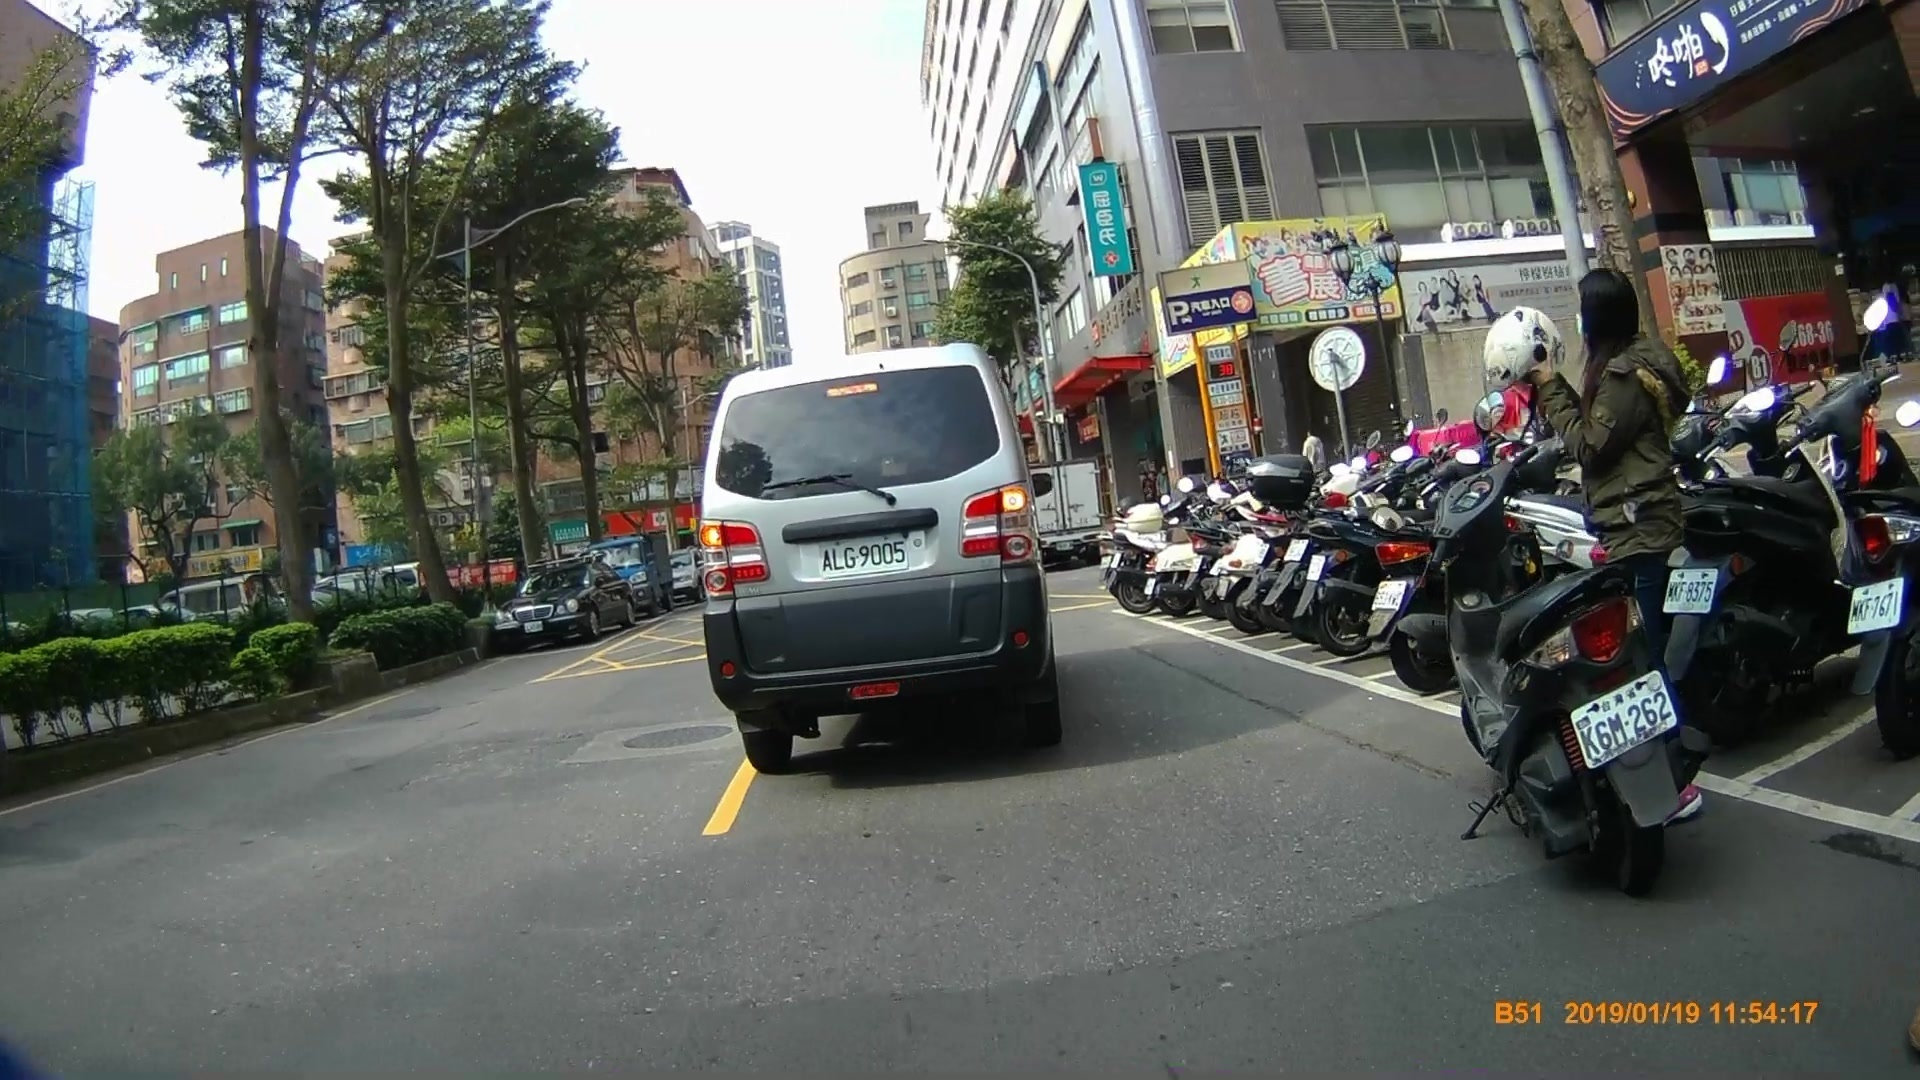License_plate: (1561, 675, 1681, 754), (815, 538, 913, 575), (1658, 562, 1719, 615), (1845, 586, 1900, 631)
